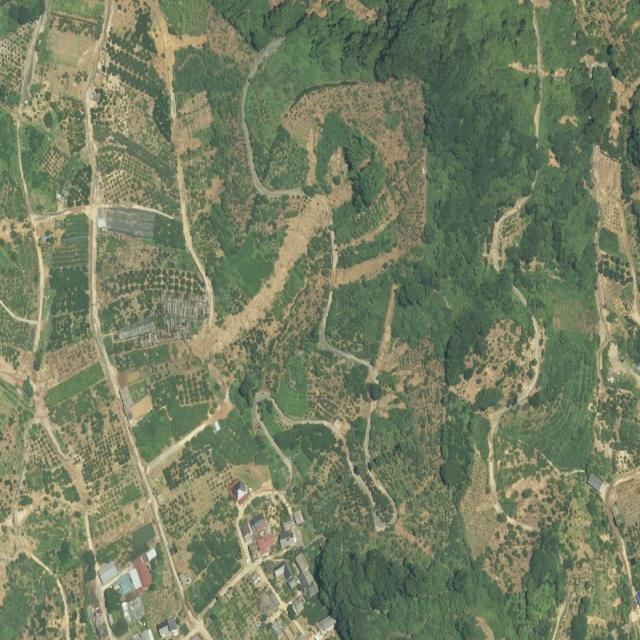landslide: (191, 199, 327, 359)
